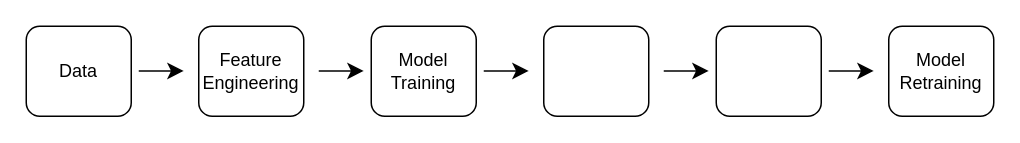
Some shapes in this 1020 by 143 pixel diagram are drawn without their labels. Each missing label, with the centre of its shape:
"Model Deployment" belongs at point 595,70.
"Production Monitoring" belongs at point 768,70.
